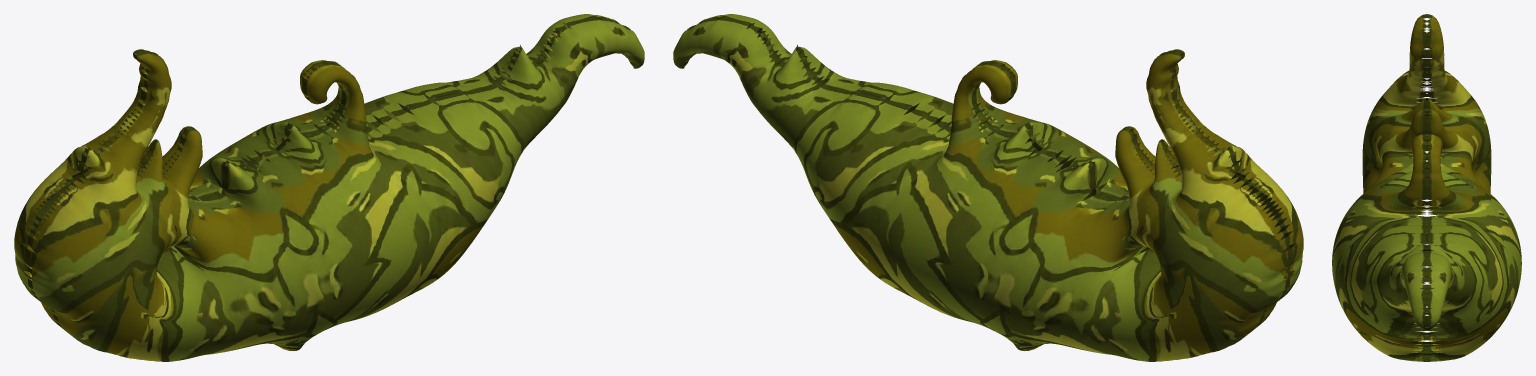
File: thorn_vines.glb
3 views of the same model, side by side, from view 1: azimuth 30°, elevation 25°; view 2: azimuth 150°, elevation 25°; view 3: azimuth 270°, elevation 25° (orthographic). The views are drawn at different scales.
Parts seen in each view (by area): view 1: thorn_vines; view 2: thorn_vines; view 3: thorn_vines.
Boxes of the visible parts, bbox=[...] form: thorn_vines: bbox=[14, 14, 644, 361]; thorn_vines: bbox=[673, 14, 1303, 361]; thorn_vines: bbox=[1332, 14, 1521, 361].
Size of the model in its own units: 0.989 by 0.4715 by 0.3182.
1 material, 1 textured.
